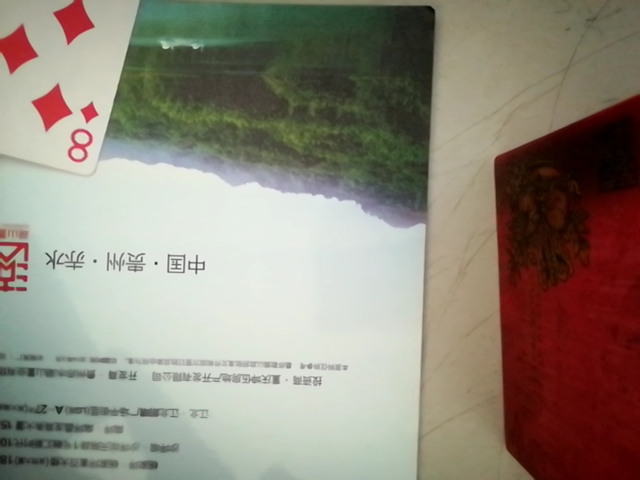fk 8: (2, 0, 157, 174)
